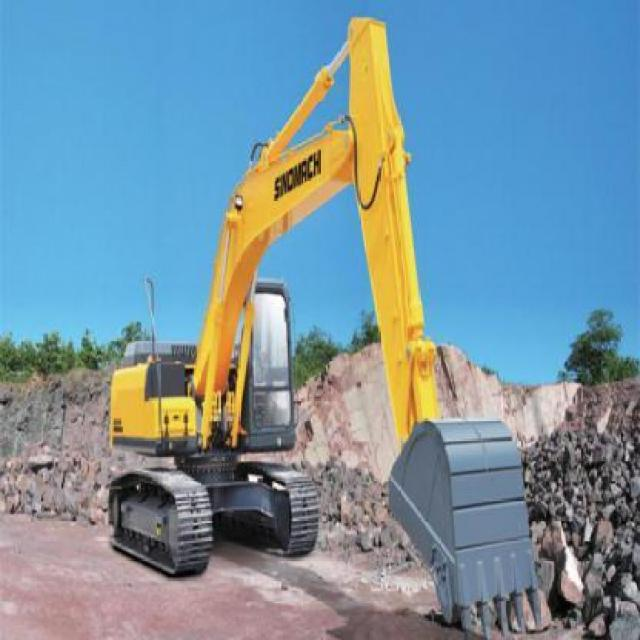Excavator: (91, 11, 546, 637)
